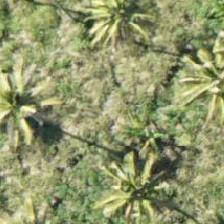coconut_tree: (91, 144, 181, 223), (83, 0, 173, 71), (0, 61, 59, 151), (164, 39, 223, 129)
